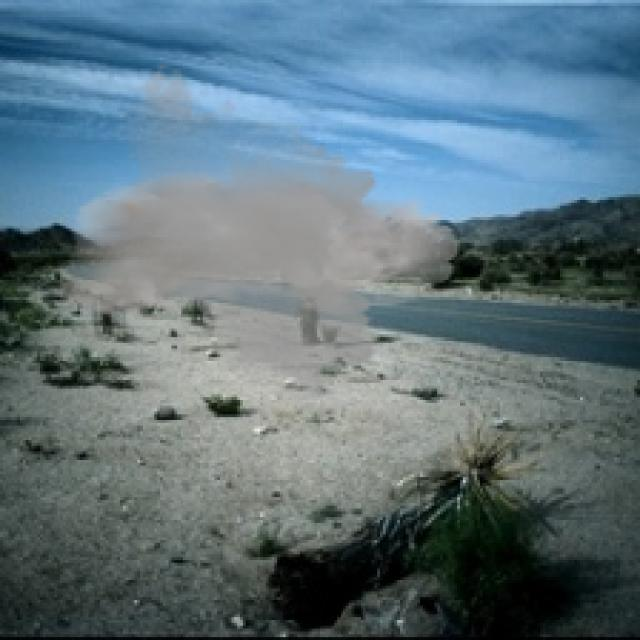smoke: (54, 60, 460, 411)
